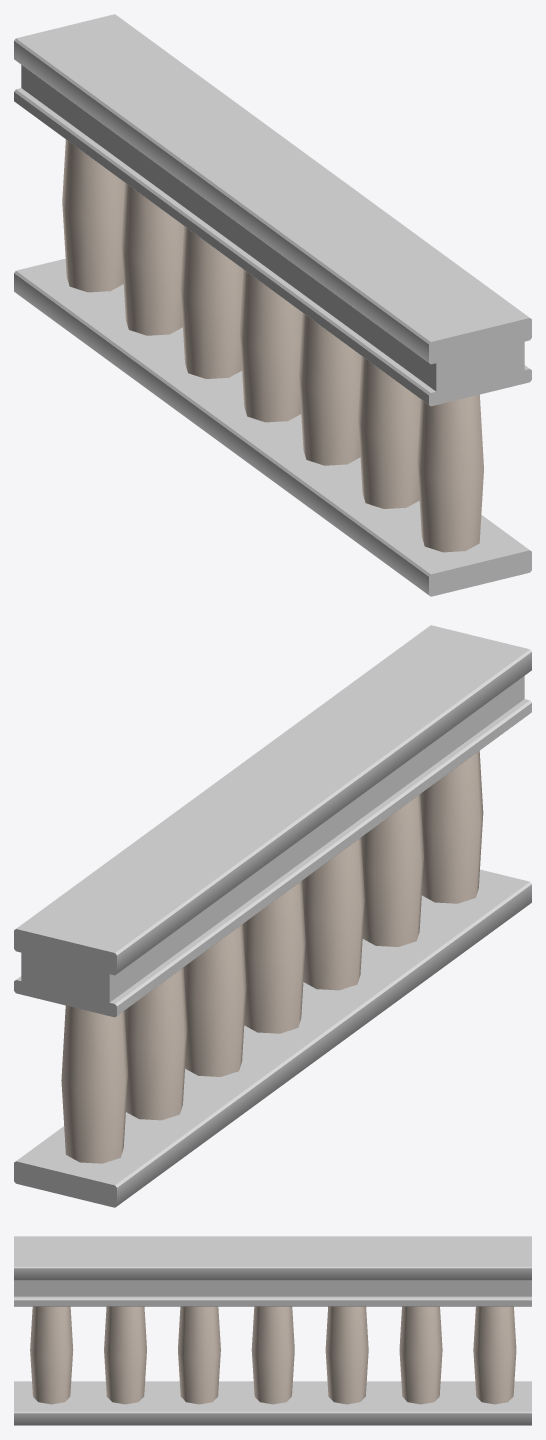
The model's file is railing01.fbx.
3 renders of one model, top to bottom at view 1: azimuth 30°, elevation 25°; view 2: azimuth 150°, elevation 25°; view 3: azimuth 270°, elevation 25°, orthographic. The views are drawn at different scales.
Parts seen in each view (by area): view 1: railing01; view 2: railing01; view 3: railing01.
Part boxes in pixels (<box>): railing01: <box>14,14,531,596</box>; railing01: <box>14,625,531,1207</box>; railing01: <box>14,1236,531,1425</box>.
Size of the model in its own units: 20.06 by 47.42 by 140.
Materials: 2 (1 with a texture image).
